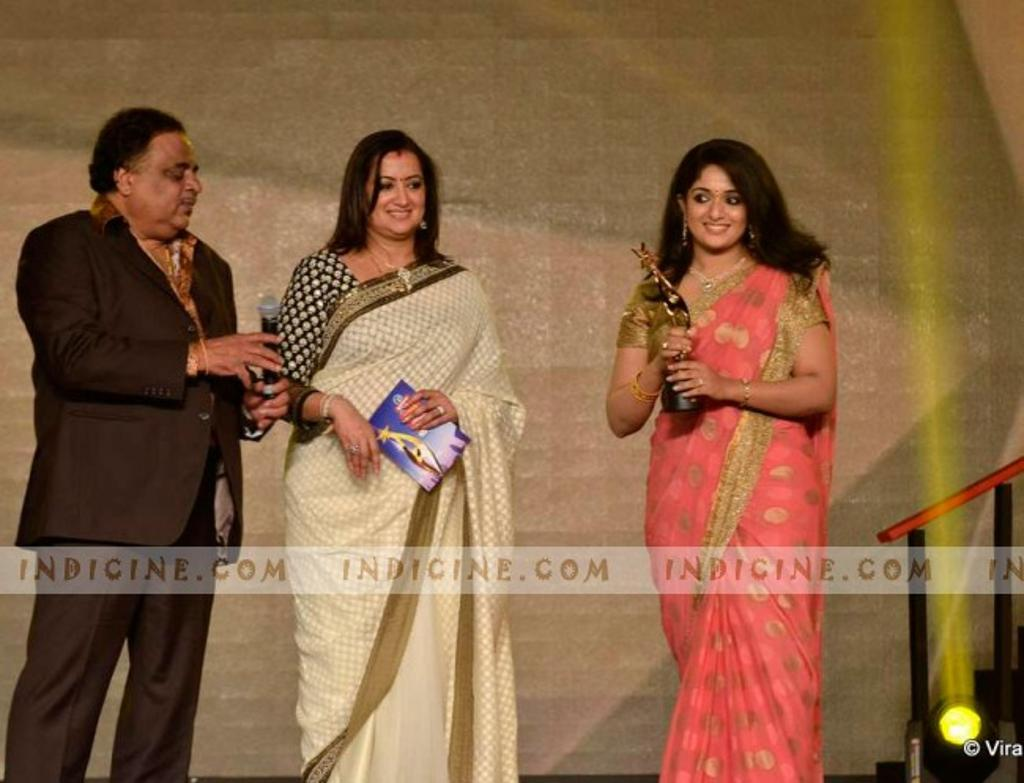face: (136, 114, 200, 226), (360, 144, 428, 232), (684, 162, 748, 252)
